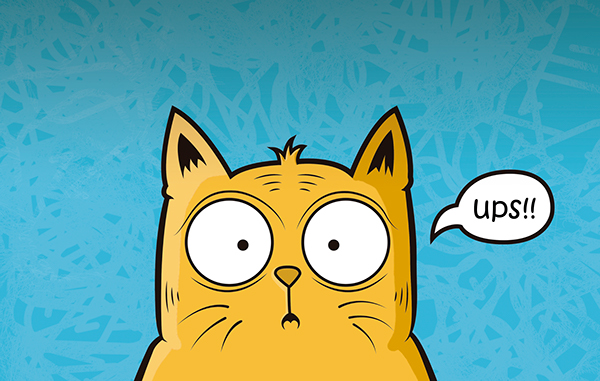cat: (121, 82, 439, 380)
